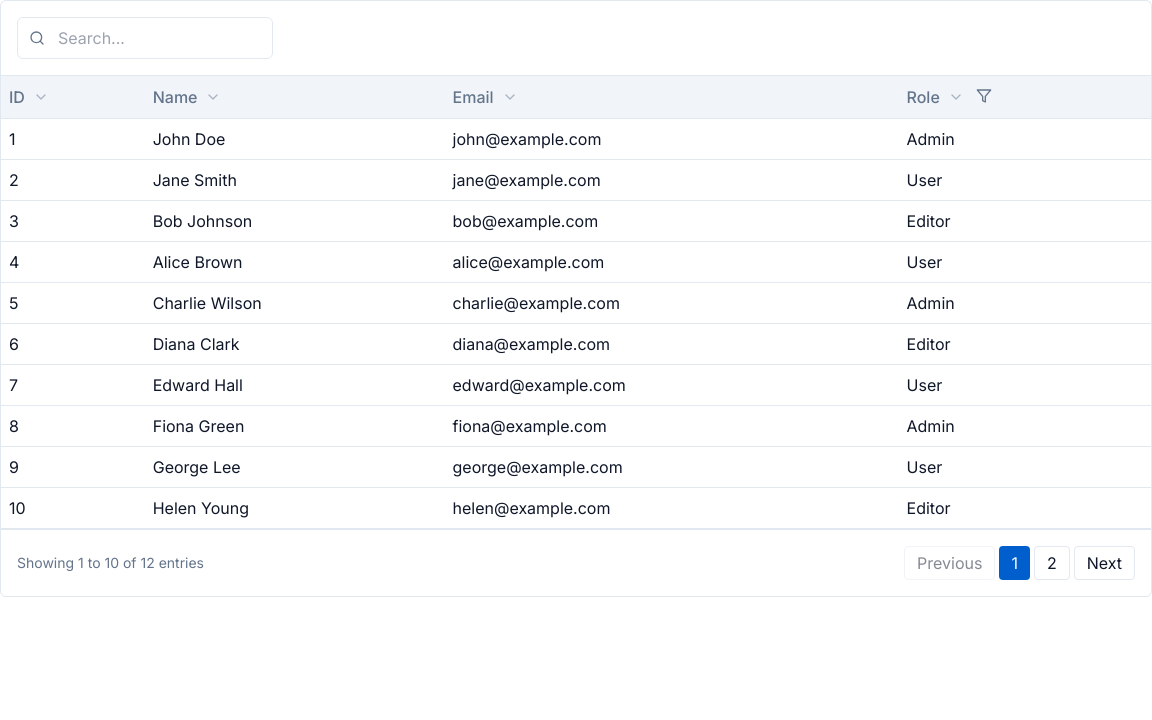
Scenario: DataGrid Component › performs sorting when column header is clicked
The image size is (1152, 720).
Expected: the text "John Doe" is shown, [145,118,444,160]
Note: Click to sort ascending
Click the button named "Sort by Name": x=214, y=97 [202,85,226,109]
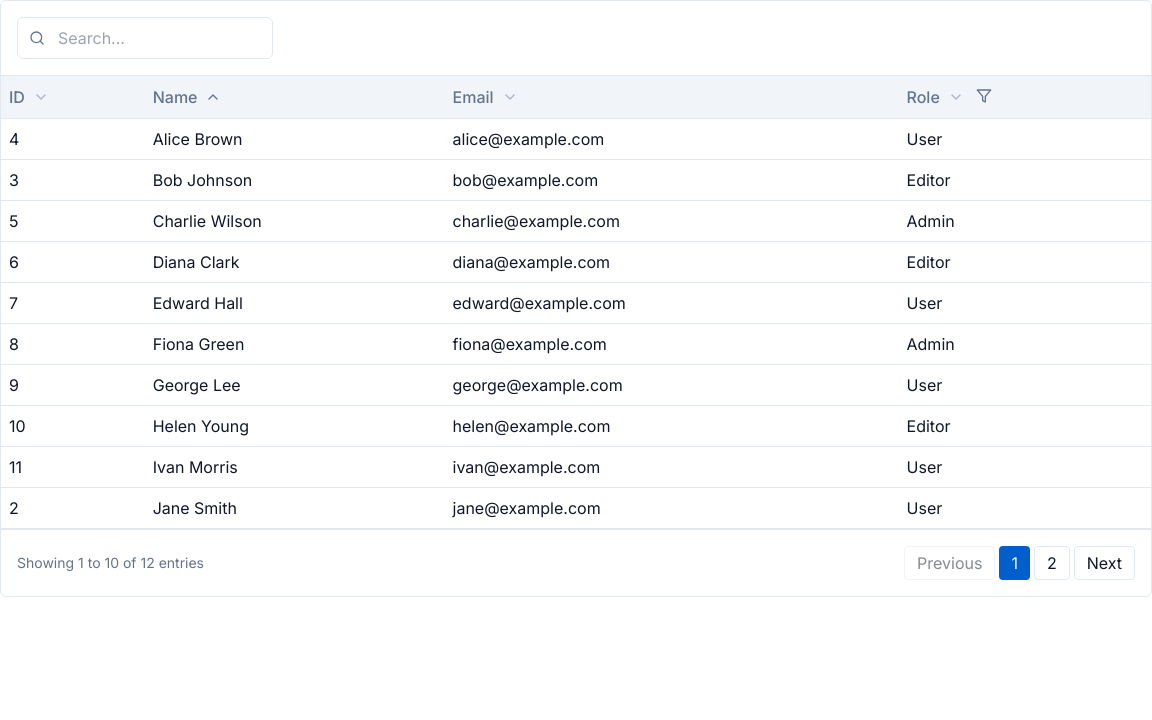
Note: Click again to sort descending
Click the button named "Sort by Name": x=214, y=97 [202,85,226,109]
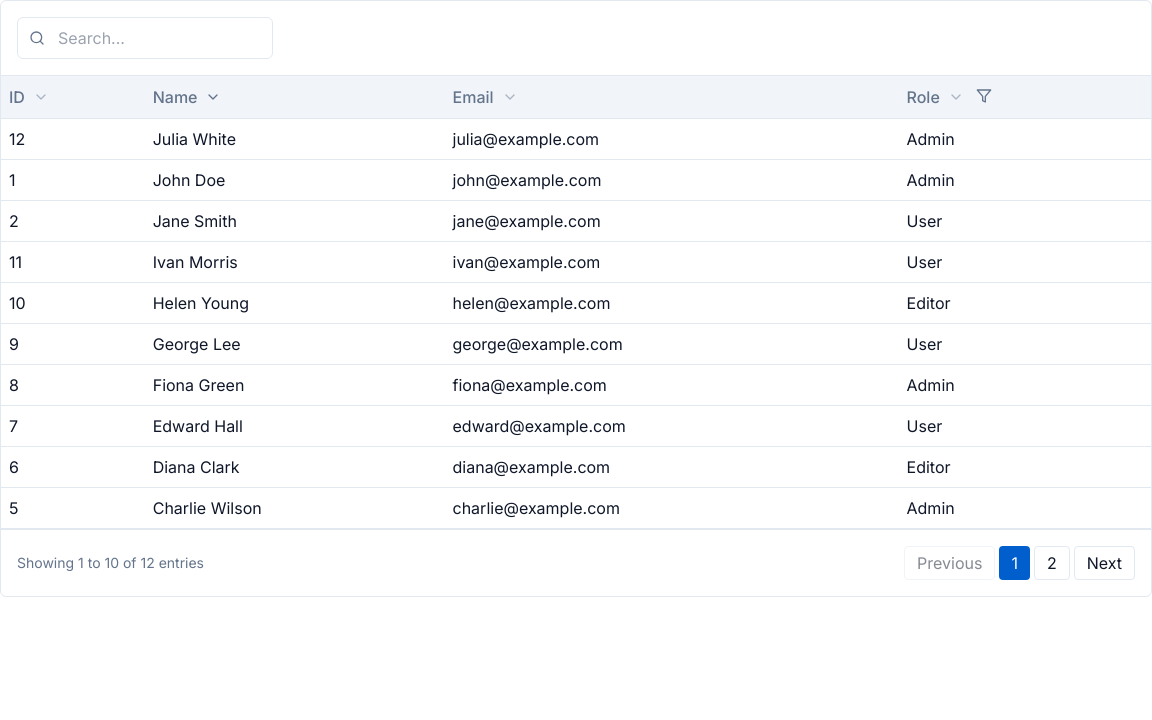
Now the text "Julia White" is shown, box [145,118,444,160]
